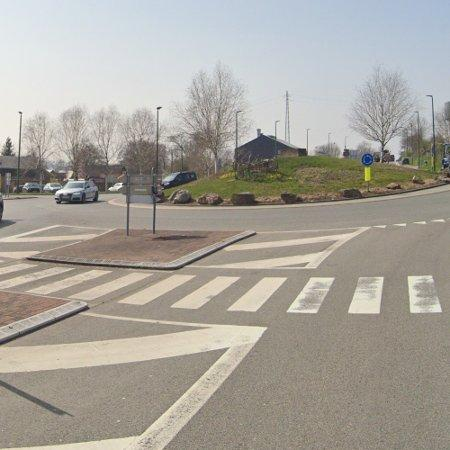crosswalks: (0, 261, 446, 314)
